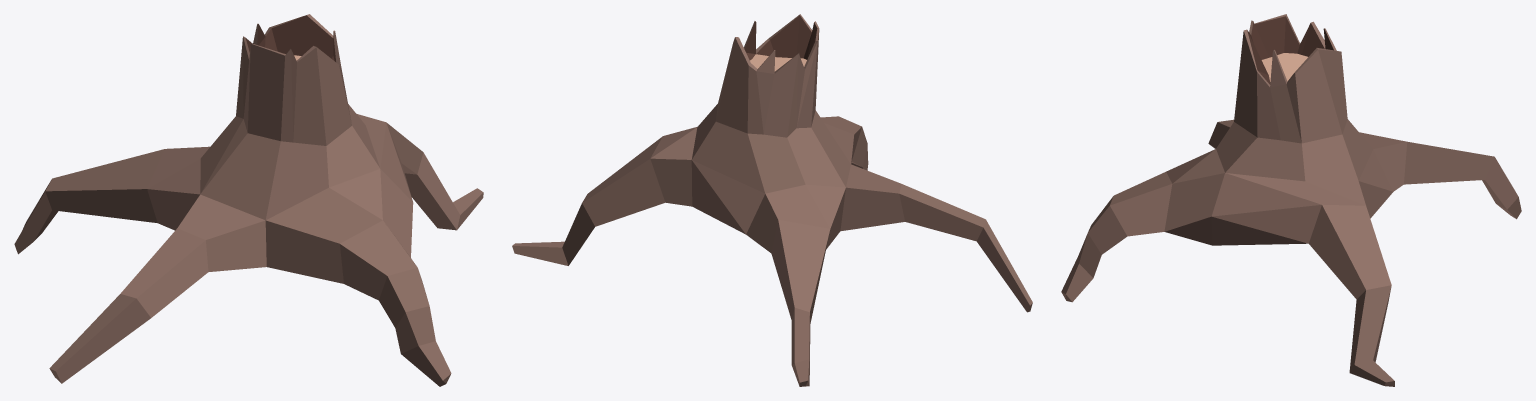
File: tree_old_trunk_1.fbx
3 views of the same model, side by side, from view 1: azimuth 30°, elevation 25°; view 2: azimuth 150°, elevation 25°; view 3: azimuth 270°, elevation 25° (orthographic). The views are drawn at different scales.
Parts seen in each view (by area): view 1: Tree_Old_Trunk_1; view 2: Tree_Old_Trunk_1; view 3: Tree_Old_Trunk_1.
Part boxes in pixels (x1,y1,x2,y2): Tree_Old_Trunk_1: [14, 14, 483, 386]; Tree_Old_Trunk_1: [512, 14, 1032, 386]; Tree_Old_Trunk_1: [1061, 14, 1521, 386].
Size of the model in its own units: 575 by 303 by 488.
